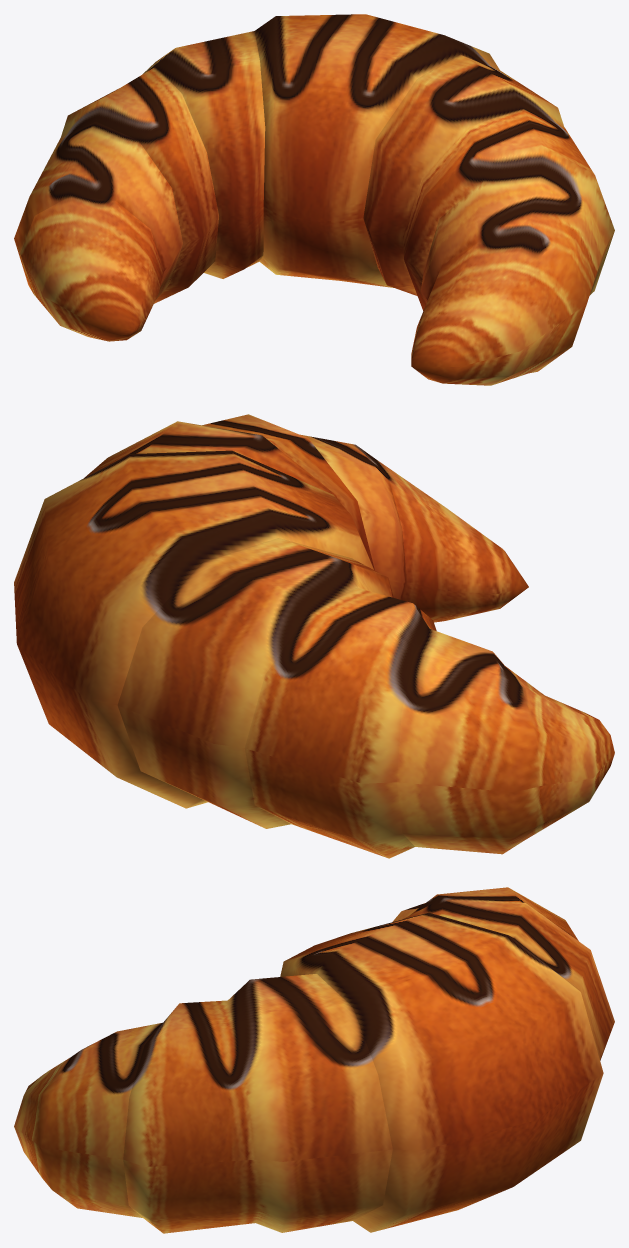
The model's file is 007-Croissant_01.FBX.
The picture shows the model from 3 angles, top to bottom: view 1: azimuth 30°, elevation 25°; view 2: azimuth 150°, elevation 25°; view 3: azimuth 270°, elevation 25°; orthographic projection. The views are drawn at different scales.
Parts seen in each view (by area): view 1: 007-Croissant_01; view 2: 007-Croissant_01; view 3: 007-Croissant_01.
Boxes of the visible parts, x1,y1,x2,y2 form: 007-Croissant_01: (14, 14, 614, 385); 007-Croissant_01: (14, 414, 614, 858); 007-Croissant_01: (14, 887, 614, 1233).
Bounding box in the file's own units: 15.51 × 7.22 × 15.66.
